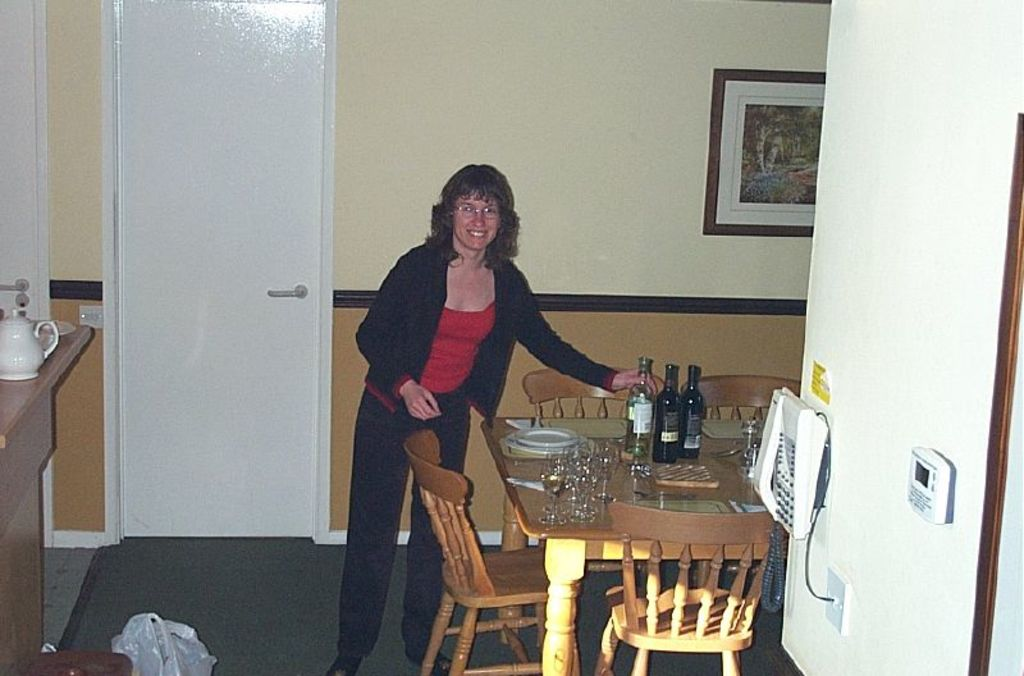Footwear: (408, 649, 454, 675), (326, 649, 366, 675)
